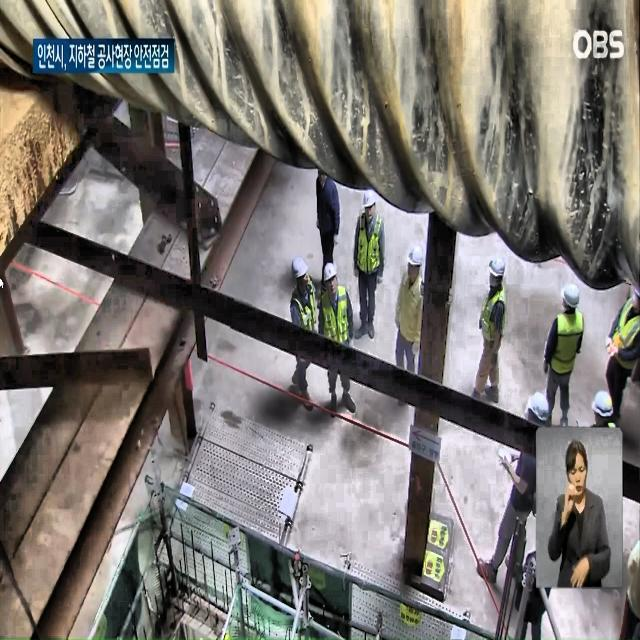safety_helmet: (283, 250, 313, 294), (590, 380, 622, 419), (484, 254, 510, 298), (358, 188, 382, 231), (524, 385, 548, 424), (403, 242, 428, 279), (560, 284, 584, 318), (324, 254, 346, 288)
safety_jacket: (282, 292, 331, 368), (312, 282, 356, 366), (606, 309, 640, 381), (548, 319, 586, 376), (348, 207, 378, 267), (478, 298, 502, 364)
